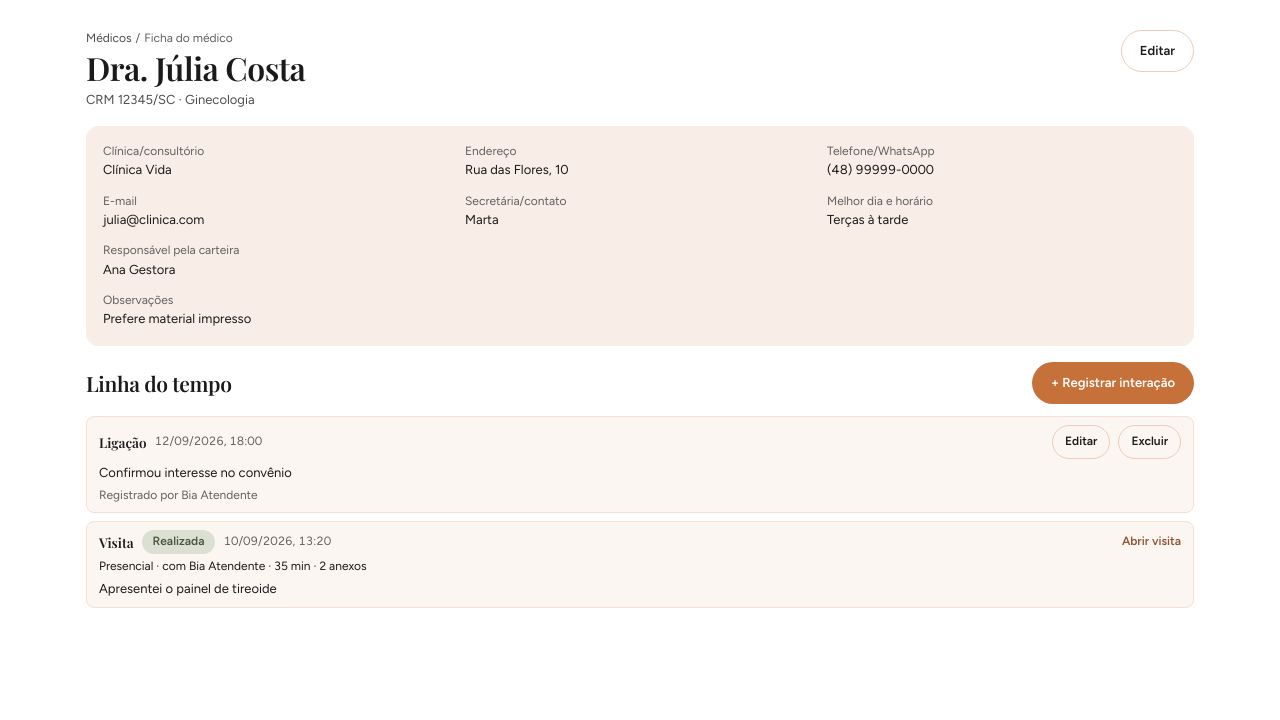
Test case: DoctorProfile (/visitation/doctors/:id) › descrição vazia não sai da tela
Click the button "+ Registrar interação" at [1113, 383], box [1032,362,1194,404]
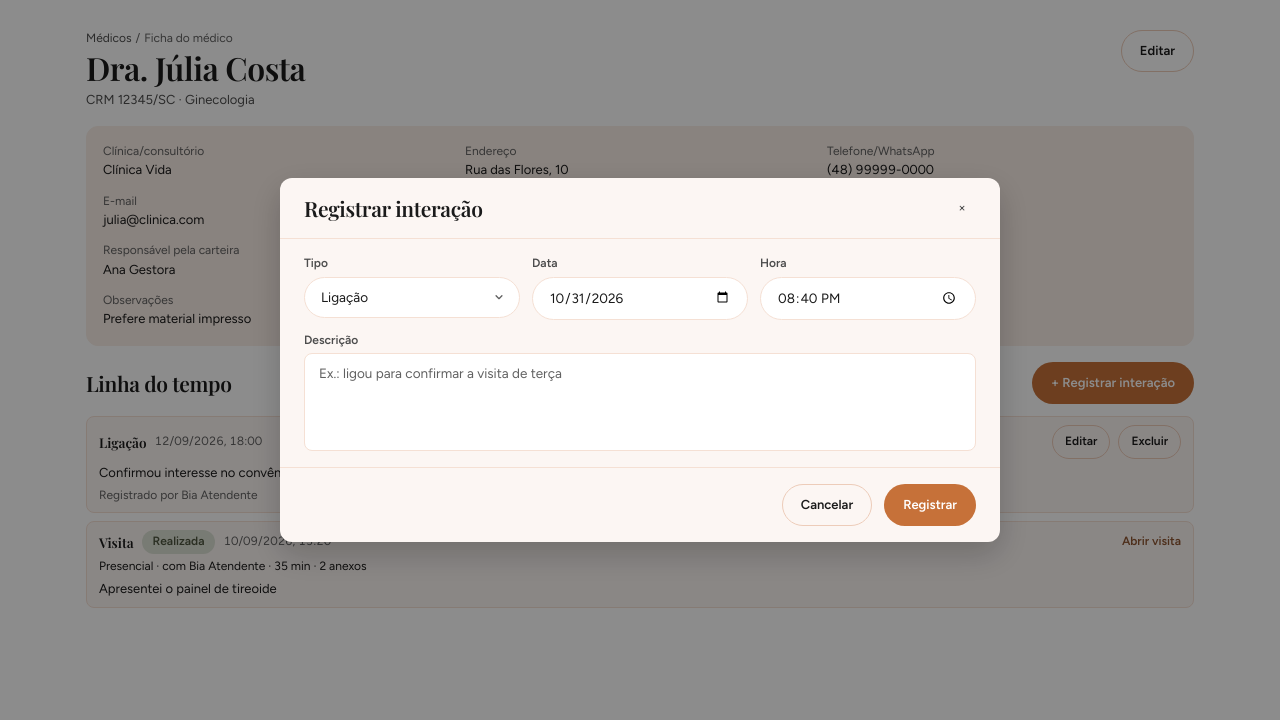
Click the button "Registrar" at [930, 505], box [884,484,976,526]
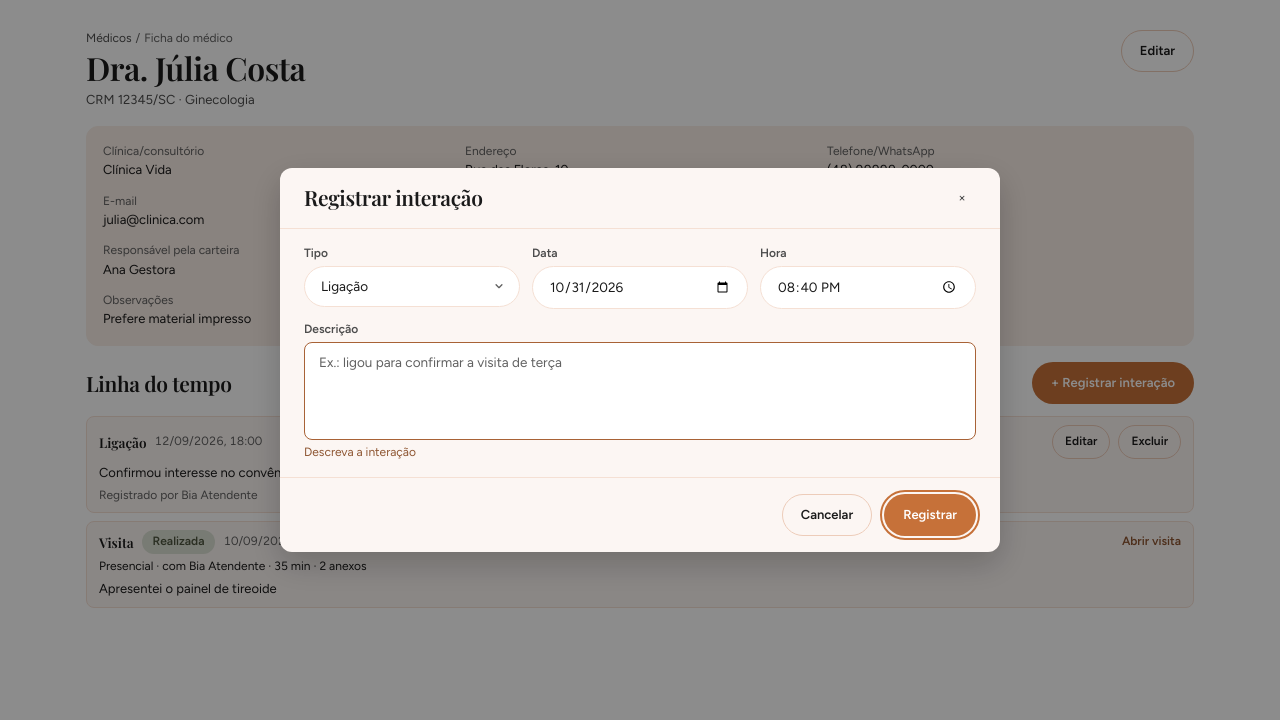
Expected: the text "Descreva a interação" is shown, [304,445,416,459]
